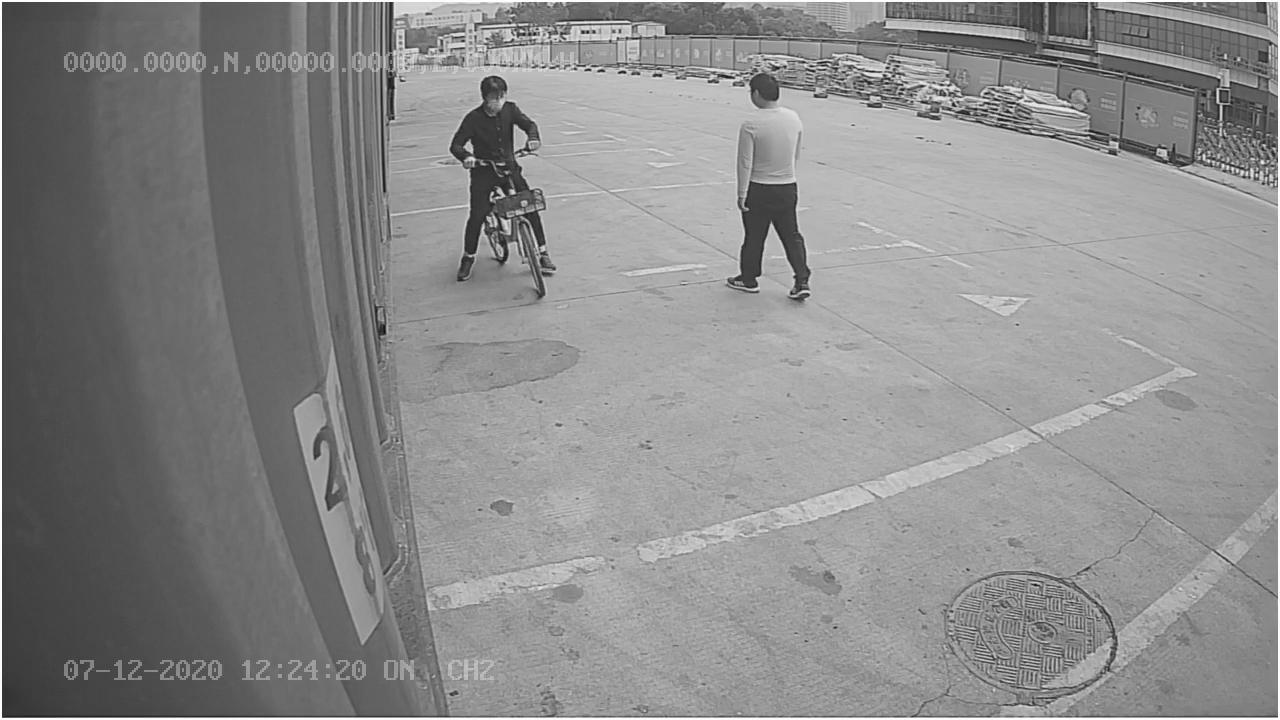person: (722, 67, 816, 304)
